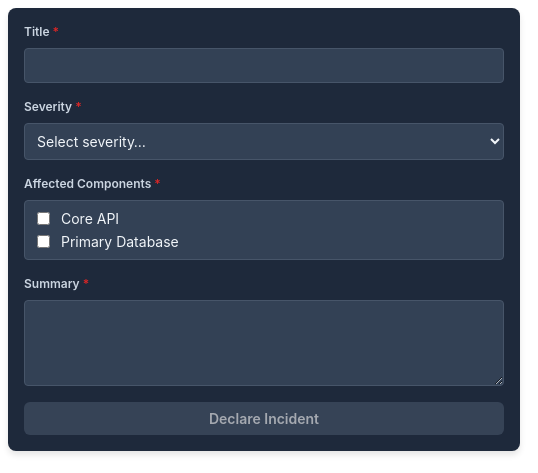
Test: IncidentForm › keeps the submit button disabled until every required field is valid, then enables it
The image size is (538, 473).
Type "API latency spike" into the field with test id "incident-title-input".
click(264, 66); type("API latency spike")  # box [24,48,504,83]
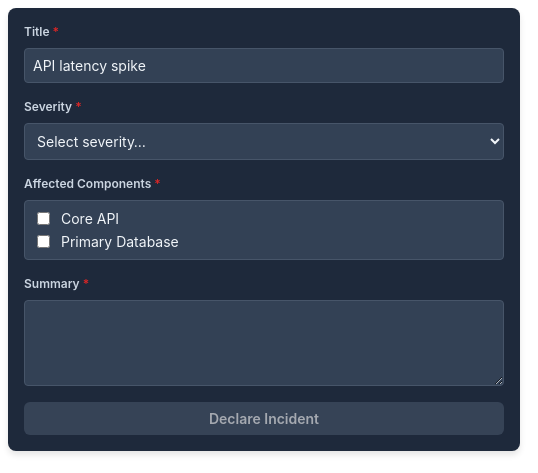
expect the button with test id "incident-submit-button" is disabled: met, box [24,402,504,435]
Select "SEV2" in the dropdown with test id "incident-severity-select" at (264, 142), box [24,123,504,160]
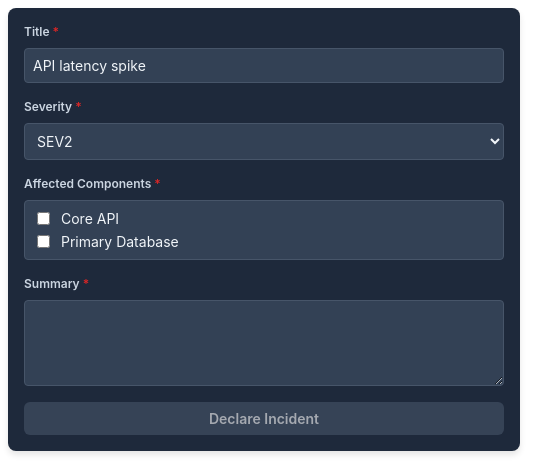
expect the button with test id "incident-submit-button" is disabled: met, box [24,402,504,435]
Click the checkbox labelled "Core API".
click(44, 218)  # box [37,212,50,225]
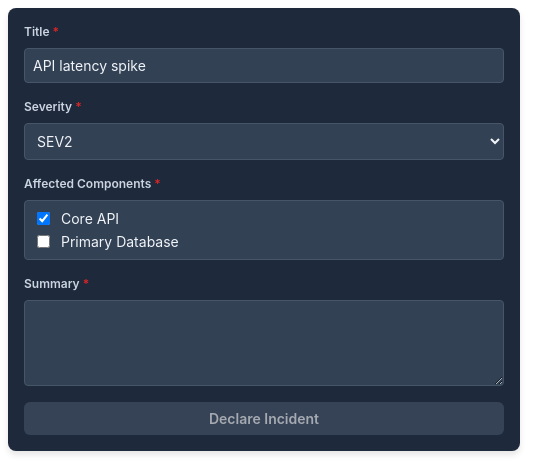
expect the button with test id "incident-submit-button" is disabled: met, box [24,402,504,435]
Type "Elevated p99 latency on the core API." into the text box with test id "incident-summary-input".
click(264, 343); type("Elevated p99 latency on the core API.")  # box [24,300,504,386]
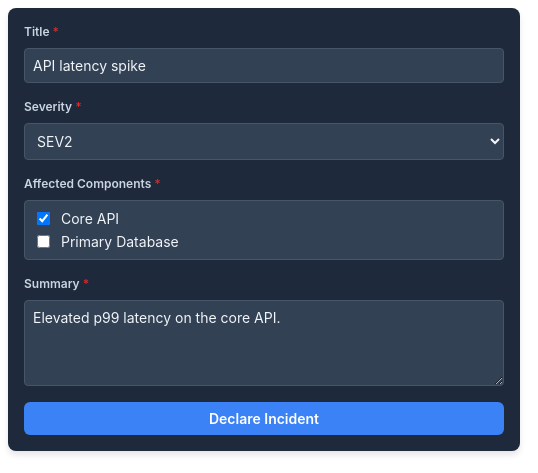
expect the button with test id "incident-submit-button" is enabled: met, box [24,402,504,435]
